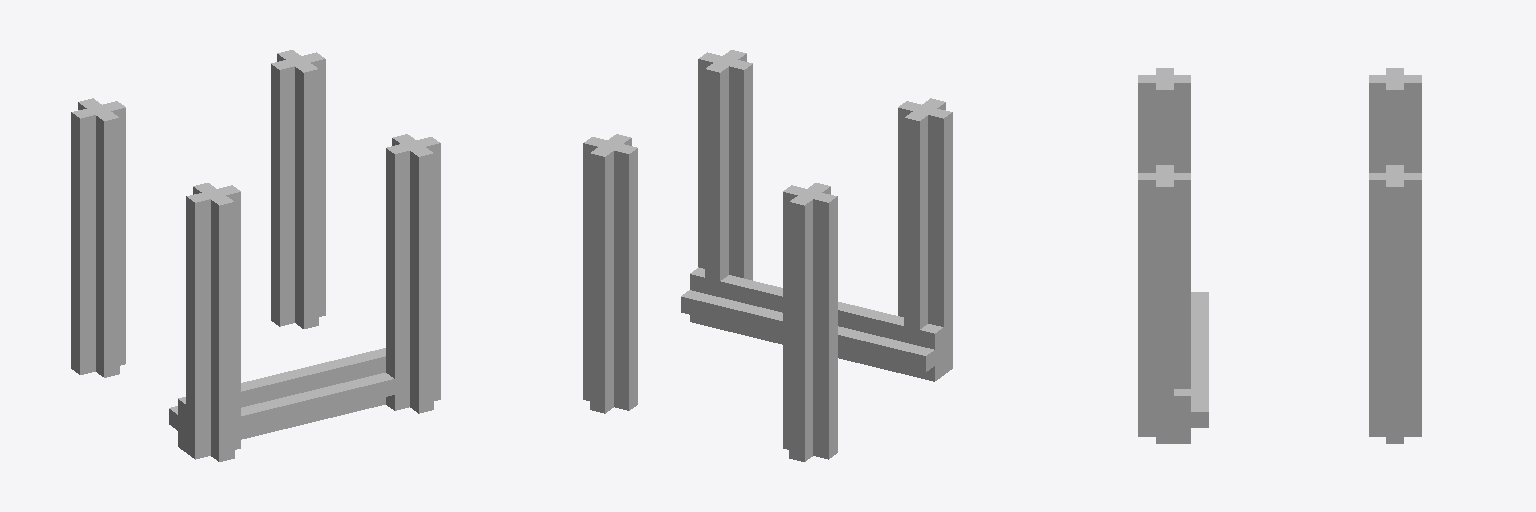
The model's file is pole_scaffolding_junc.obj.
3 views of the same model, side by side, from view 1: azimuth 30°, elevation 25°; view 2: azimuth 150°, elevation 25°; view 3: azimuth 270°, elevation 25° (orthographic).
Parts seen in each view (by area): view 1: node_0_0_0.007; view 2: node_0_0_0.007; view 3: node_0_0_0.007.
Part boxes in pixels (x1,y1,x2,y2): node_0_0_0.007: (71,50,440,461); node_0_0_0.007: (583,50,952,461); node_0_0_0.007: (1138,68,1421,443).
Size of the model in its own units: 1 by 1 by 1.